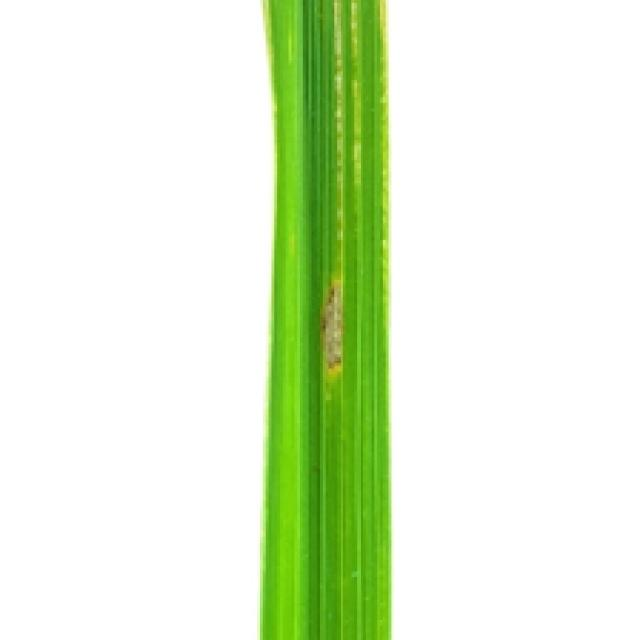Rice___Rice_Blast: (257, 0, 394, 637)
